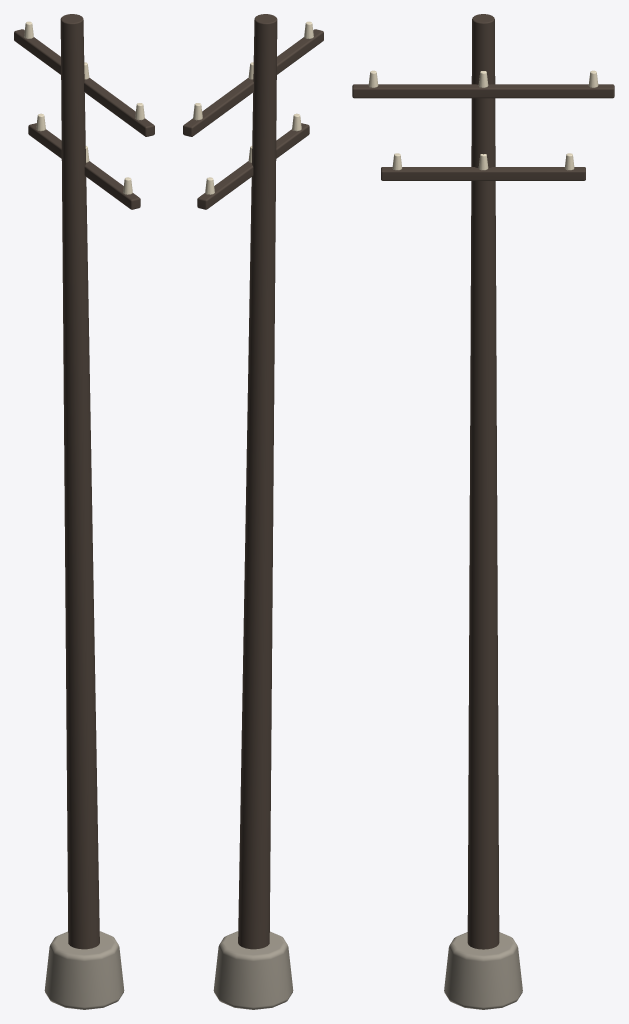
File: utility_pole.glb
The picture shows the model from 3 angles, left to right: view 1: azimuth 30°, elevation 25°; view 2: azimuth 150°, elevation 25°; view 3: azimuth 270°, elevation 25°; orthographic projection.
Visible parts, largest first — view 1: upole.004, pole_footing.004, crossarm.008, crossarm.009; view 2: upole.004, pole_footing.004, crossarm.008, crossarm.009; view 3: upole.004, pole_footing.004, crossarm.008, crossarm.009.
Boxes of the visible parts, bbox=[...] form: upole.004: bbox=[60, 14, 99, 949]; pole_footing.004: bbox=[44, 931, 124, 1009]; crossarm.008: bbox=[14, 29, 154, 136]; crossarm.009: bbox=[28, 123, 140, 209]; upole.004: bbox=[238, 14, 277, 949]; pole_footing.004: bbox=[213, 931, 293, 1009]; crossarm.008: bbox=[183, 29, 323, 136]; crossarm.009: bbox=[197, 123, 309, 209]; upole.004: bbox=[467, 14, 499, 949]; pole_footing.004: bbox=[444, 932, 522, 1009]; crossarm.008: bbox=[352, 84, 614, 98]; crossarm.009: bbox=[381, 167, 585, 180].
Bounding box in the file's own units: 0.692 × 9.4 × 2.3.
